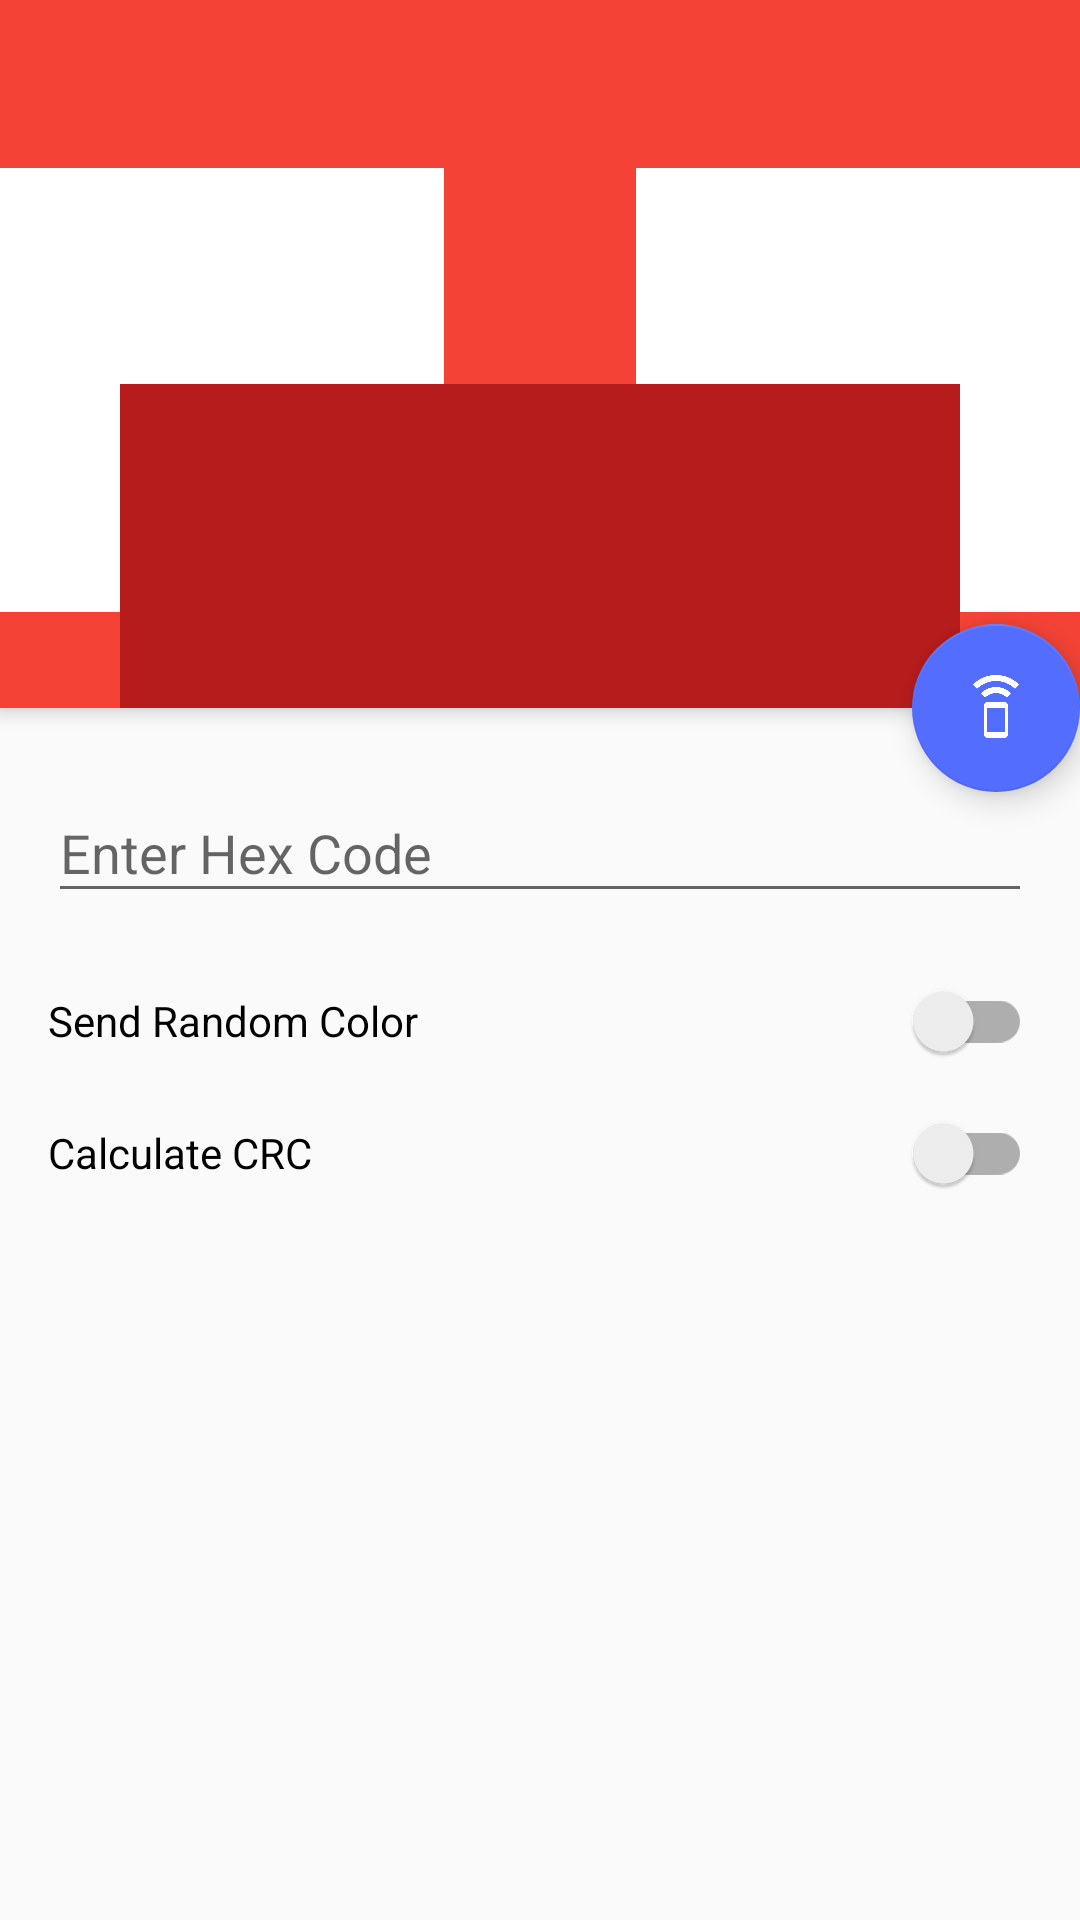

Named icons in this screenshot (1080 × 1920) and their centers, [x,y]:
speaker phone: [996,708]
